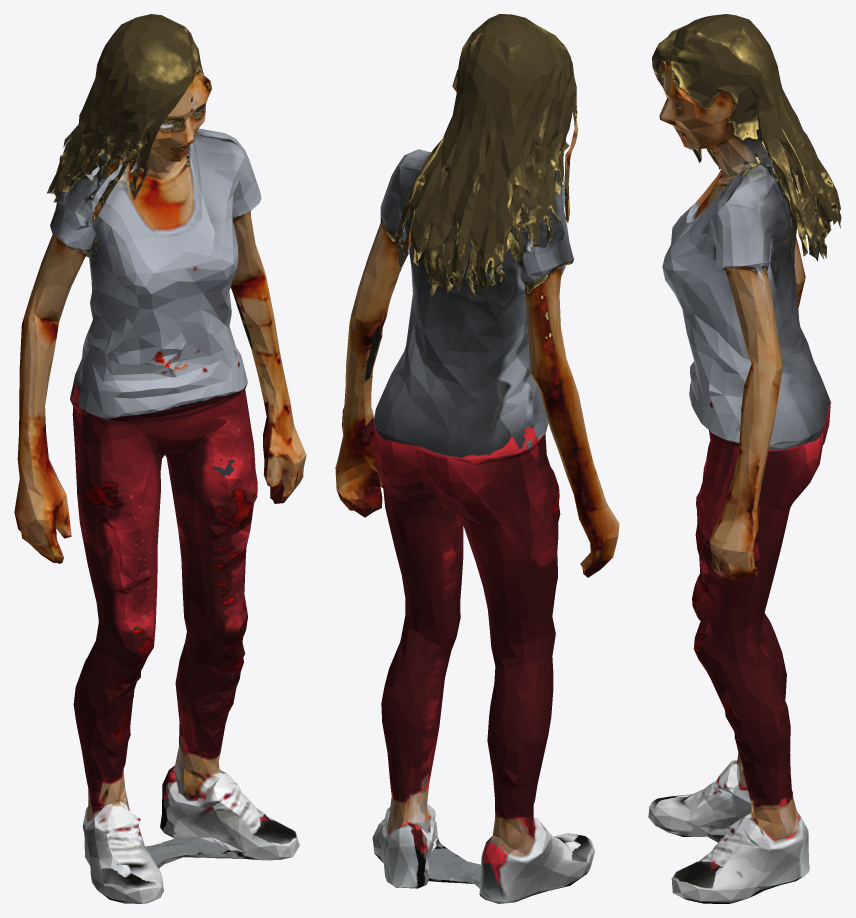
Rendered from girl_red.glb.
3 views of the same model, side by side, from view 1: azimuth 30°, elevation 25°; view 2: azimuth 150°, elevation 25°; view 3: azimuth 270°, elevation 25° (orthographic). The views are drawn at different scales.
Parts seen in each view (by area): view 1: temp_mesh.ply; view 2: temp_mesh.ply; view 3: temp_mesh.ply.
Boxes of the visible parts, <box> form: temp_mesh.ply: <box>14,14,306,903</box>; temp_mesh.ply: <box>335,14,619,903</box>; temp_mesh.ply: <box>648,14,841,903</box>.
Size of the model in its own units: 0.6748 by 1.98 by 0.4177.
1 material, 1 textured.
